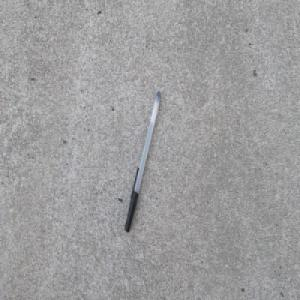Pen: (124, 90, 162, 233)
